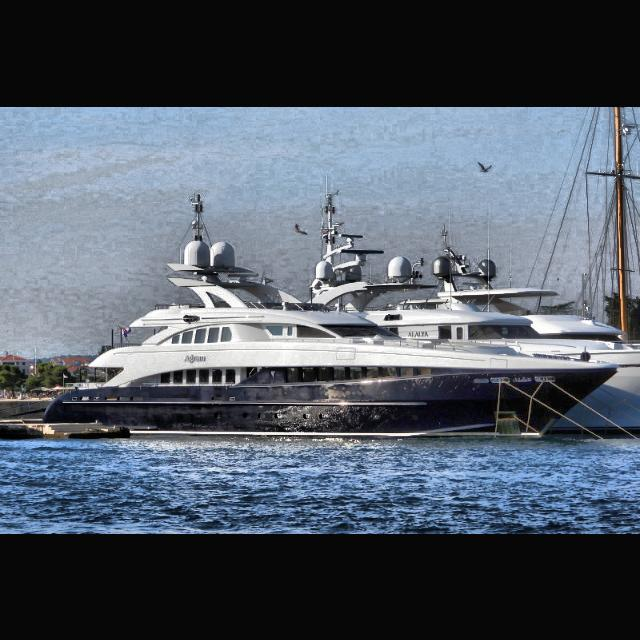yacht: (41, 234, 619, 438)
